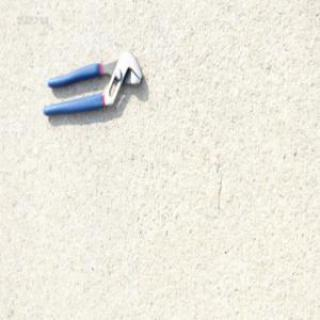Pliertrack_idkeyframe: (41, 51, 142, 119)
